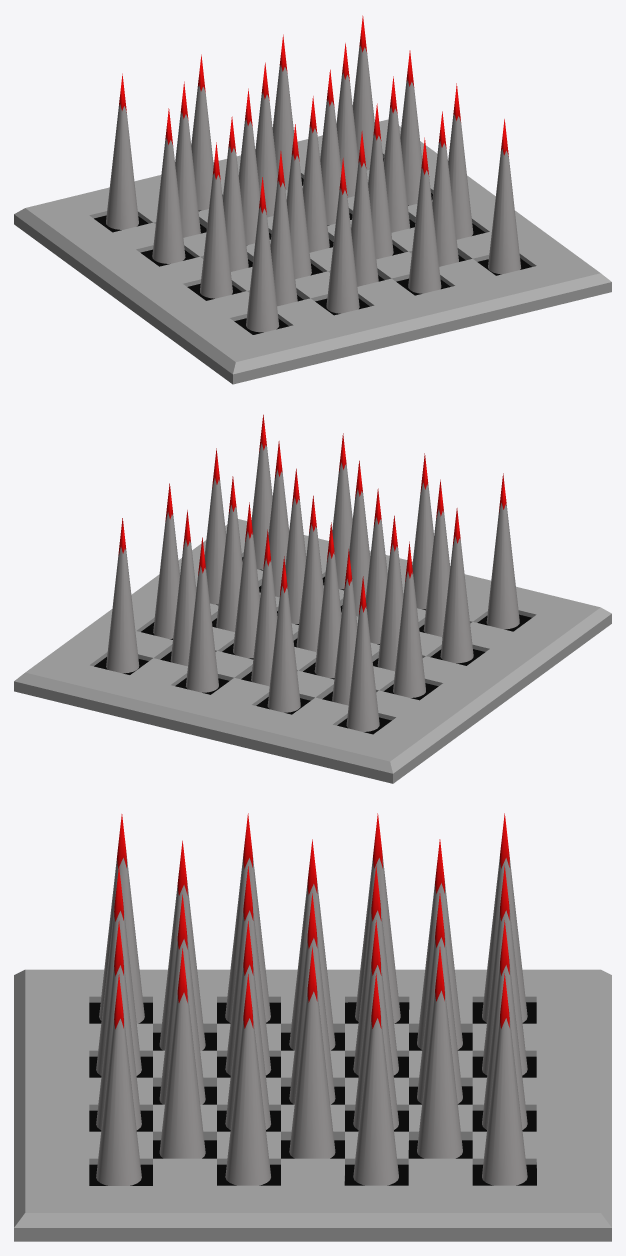
File: LP_SpikeTrap.fbx
3 renders of one model, top to bottom at view 1: azimuth 30°, elevation 25°; view 2: azimuth 150°, elevation 25°; view 3: azimuth 270°, elevation 25°, orthographic. The views are drawn at different scales.
Parts seen in each view (by area): view 1: SpikeTrap; view 2: SpikeTrap; view 3: SpikeTrap.
Boxes of the visible parts, left/top/right/bottom form: SpikeTrap: left=14, top=15, right=611, bottom=384; SpikeTrap: left=14, top=414, right=611, bottom=783; SpikeTrap: left=14, top=813, right=611, bottom=1241.
Bounding box in the file's own units: 3 × 1.23 × 3.
